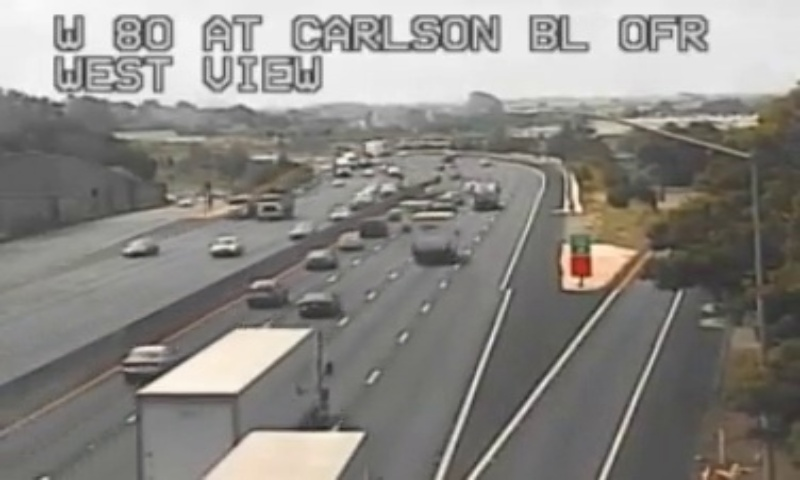car: (121, 344, 172, 380), (244, 280, 285, 307), (297, 291, 338, 316), (306, 249, 336, 270)
small-truck: (410, 211, 457, 258)
truck: (136, 324, 323, 480)
